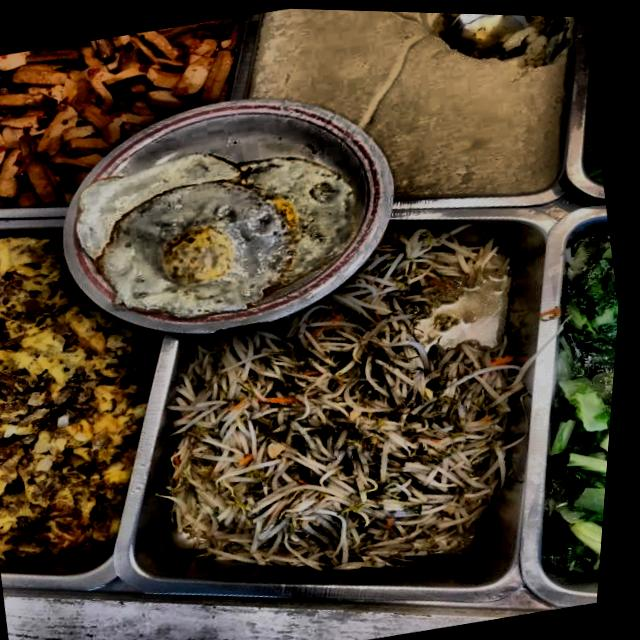Food: (185, 306, 509, 564), (83, 128, 371, 328)
